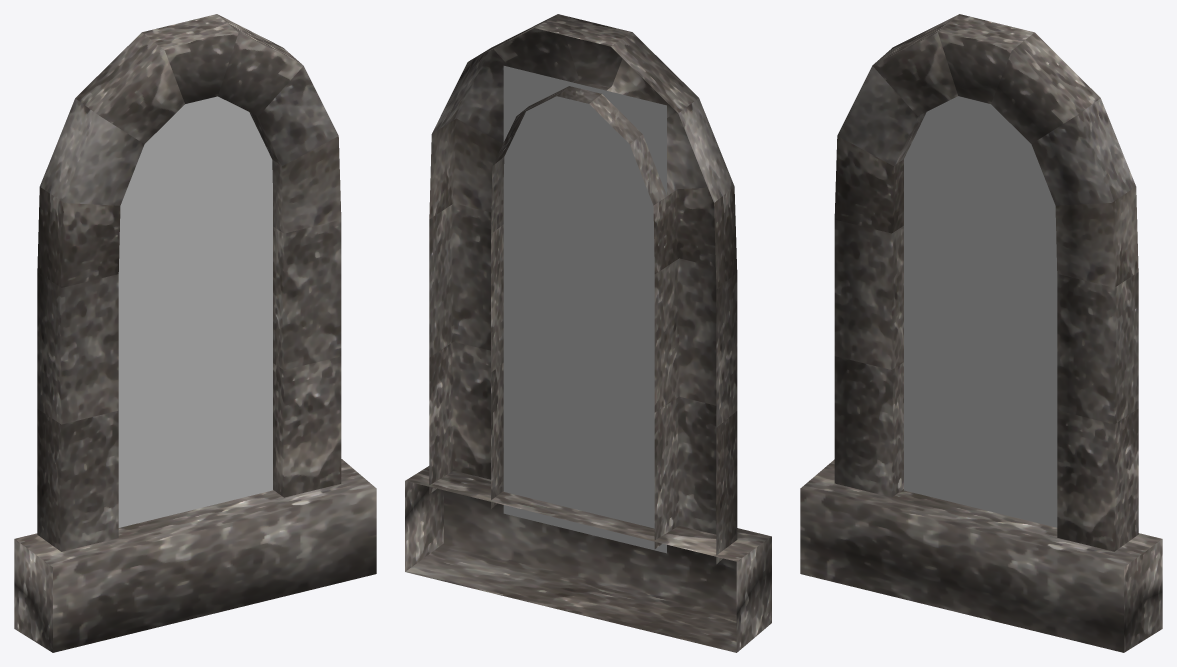
Rendered from WindowF_1.fbx.
3 views of the same model, side by side, from view 1: azimuth 30°, elevation 25°; view 2: azimuth 150°, elevation 25°; view 3: azimuth 330°, elevation 25° (orthographic).
Parts seen in each view (by area): view 1: Mesh; view 2: Mesh; view 3: Mesh.
Boxes of the visible parts, x1=… form: Mesh: x1=14, y1=14, x2=376, y2=652; Mesh: x1=405, y1=14, x2=771, y2=652; Mesh: x1=800, y1=14, x2=1162, y2=652.
Bounding box in the file's own units: 94.12 × 156 × 18.21.
